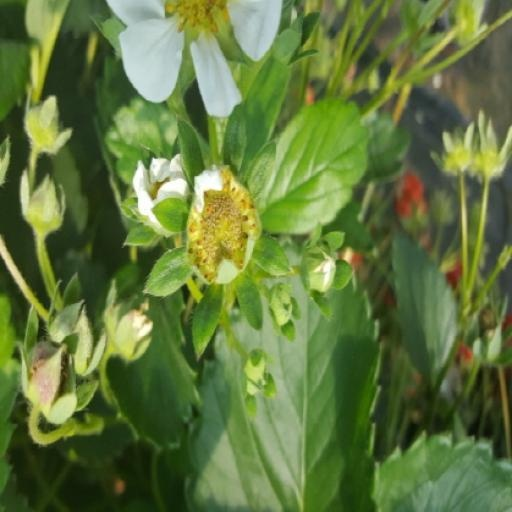Blossom Blight: (185, 229, 260, 346)
